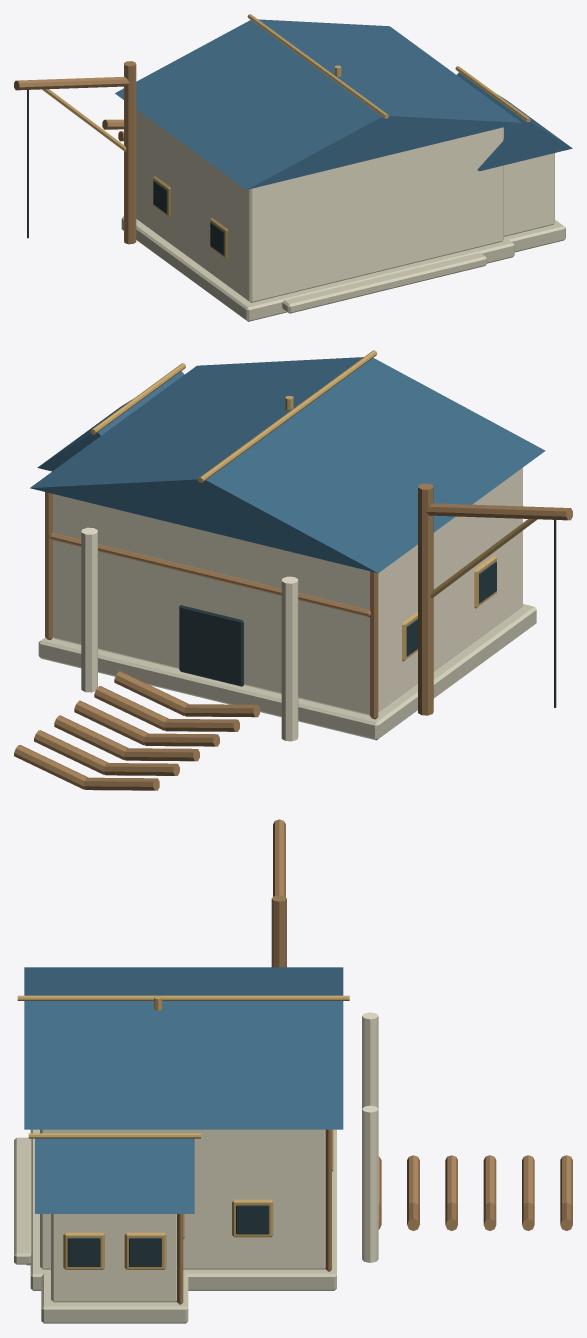
File: level_21.glb
3 renders of one model, top to bottom at view 1: azimuth 30°, elevation 25°; view 2: azimuth 150°, elevation 25°; view 3: azimuth 270°, elevation 25°, orthographic. The views are drawn at different scales.
Parts seen in each view (by area): view 1: shipyard — level 21; view 2: shipyard — level 21; view 3: shipyard — level 21.
Boxes of the visible parts, left/top/right/bottom form: shipyard — level 21: left=14, top=14, right=572, bottom=321; shipyard — level 21: left=14, top=350, right=572, bottom=790; shipyard — level 21: left=14, top=819, right=572, bottom=1323.
Bounding box in the file's own units: 9.97 × 4.16 × 8.76.
